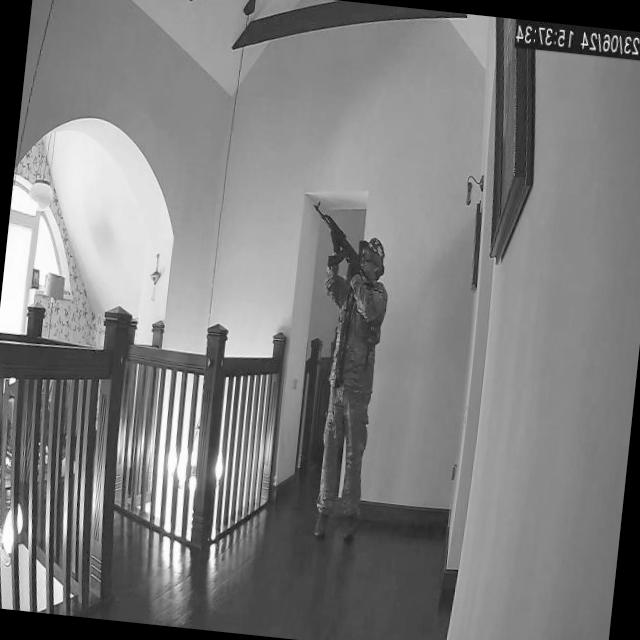gun: (306, 202, 366, 264)
person with a gun: (280, 204, 398, 522)
